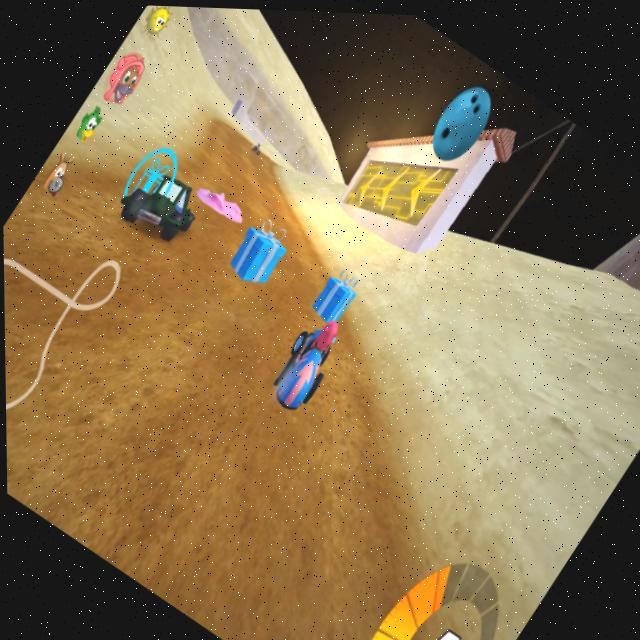bonus: (224, 216, 290, 288), (306, 265, 363, 323)
enemy_kart: (116, 147, 209, 240), (249, 138, 264, 154)
obstacle: (187, 174, 255, 238)
player_kart: (256, 304, 351, 413)
track: (187, 119, 283, 202)
